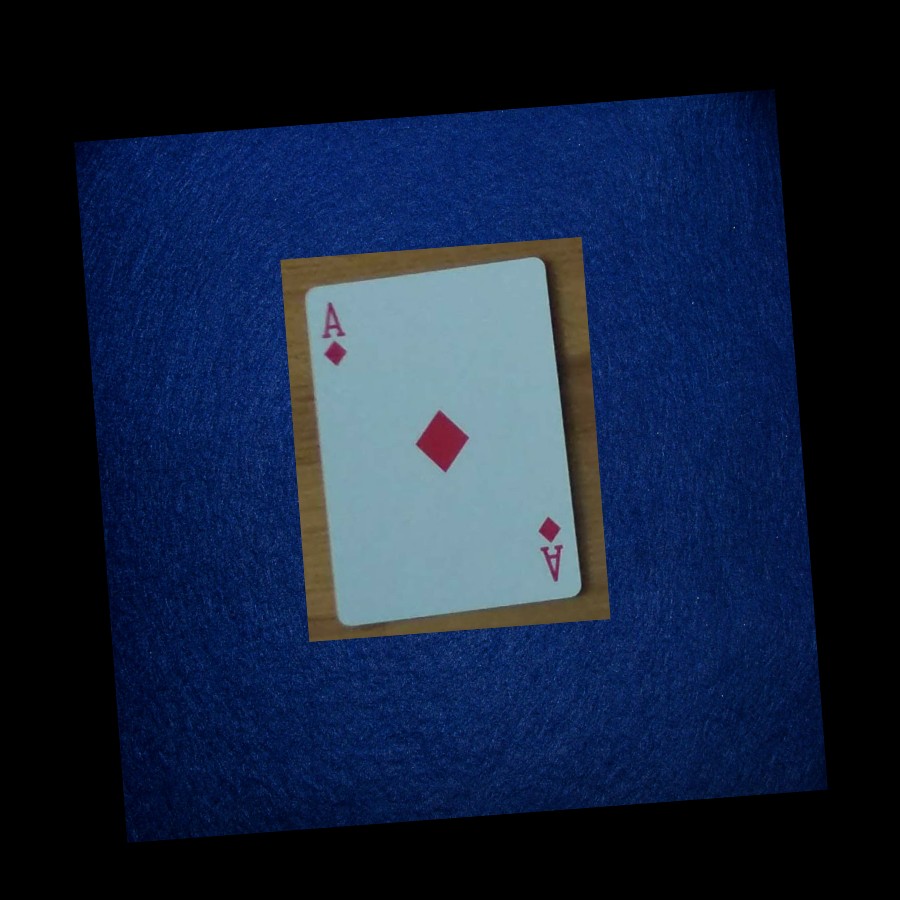1F: (521, 499, 578, 598), (310, 282, 357, 383)
